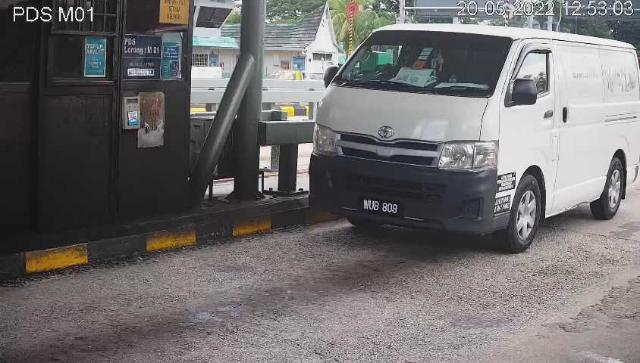License_Plate: (358, 196, 406, 223)
van: (309, 26, 640, 255)
